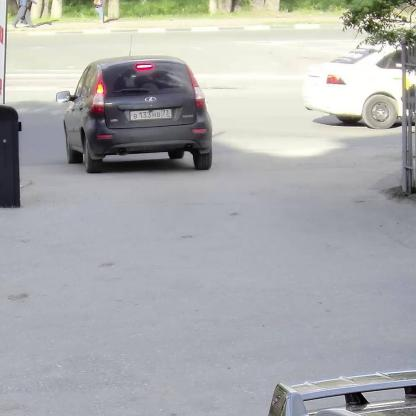plate: (131, 108, 171, 120)
